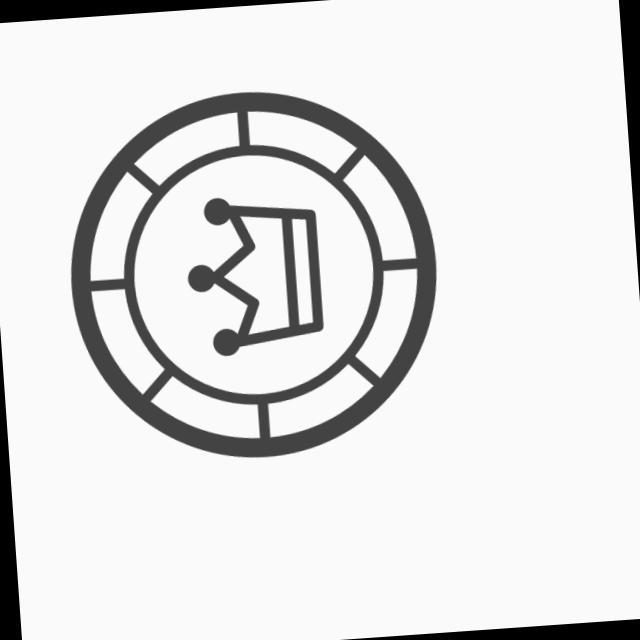coin: (54, 72, 460, 480)
